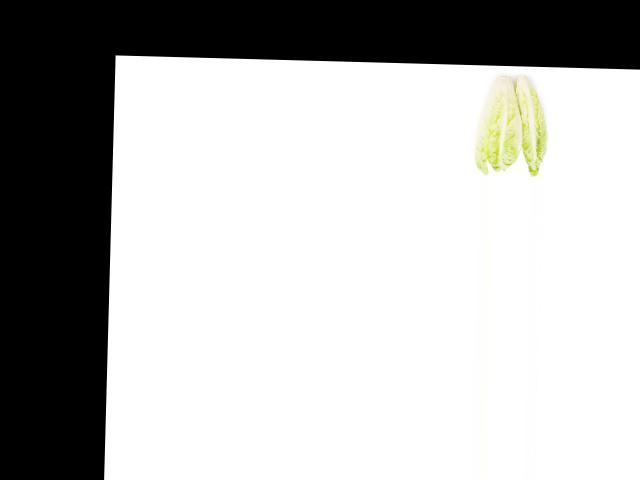lettuce: (510, 69, 559, 178)
